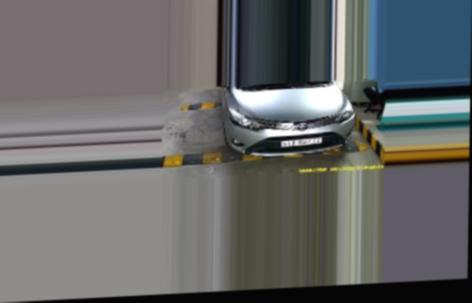License_Plate: (282, 132, 324, 149)
